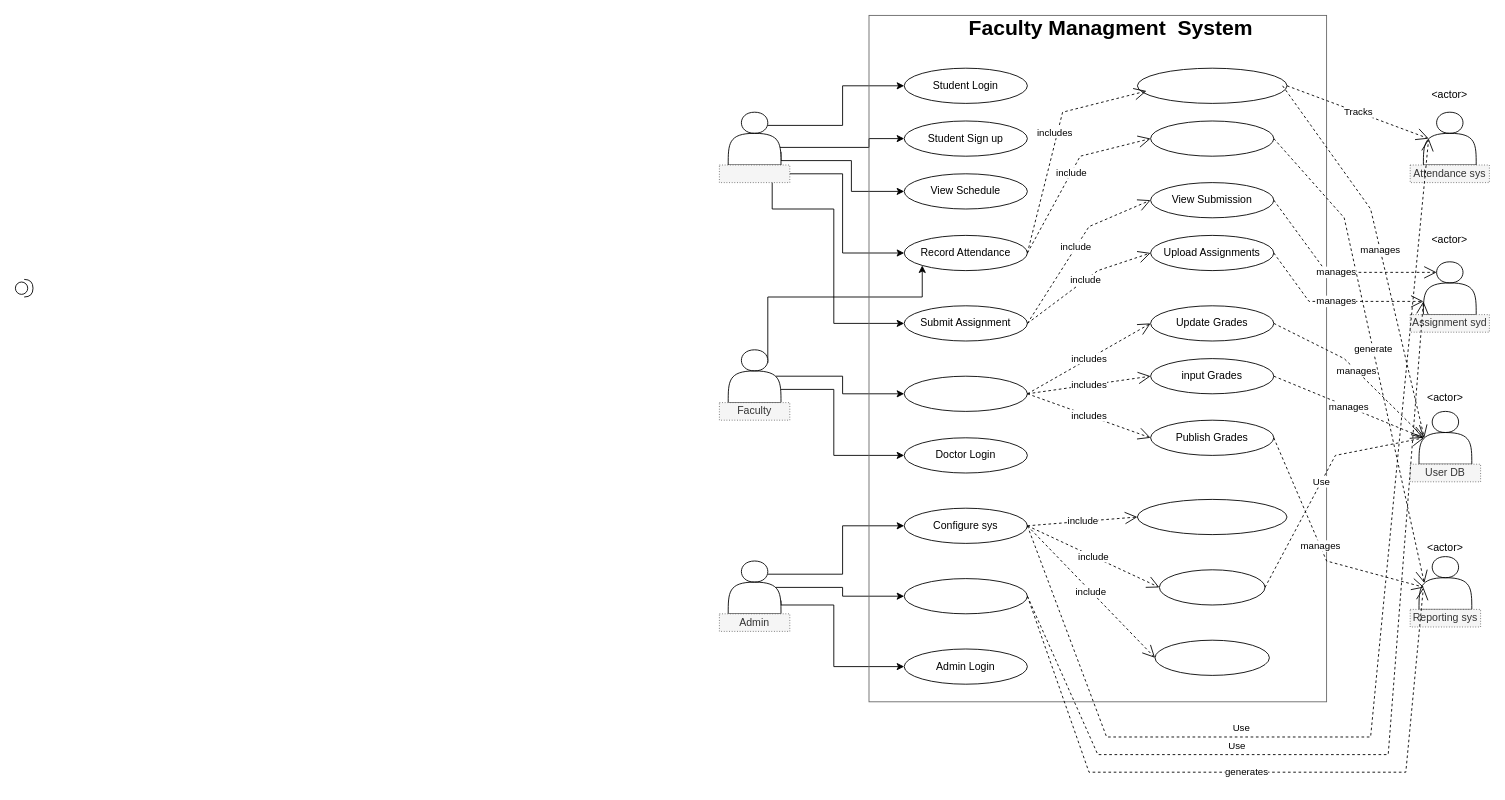
The diagram is 1505 pixels wide and 800 high, and some of its shapes have lost their labels. The shapes that lost their labels are listed below. From the top down, each one's centre as x and y in pixels, then its label:
At pixel 1212 85: "Track Student Attnendance".
At pixel 1212 138: "Scan QR".
At pixel 754 173: "Student".
At pixel 965 393: "Manage Grades".
At pixel 1212 517: "Manage Academic settings".
At pixel 965 596: "Generate Report".
At pixel 1212 587: "Configure Backup".
At pixel 1211 657: "Manage User Rules".
